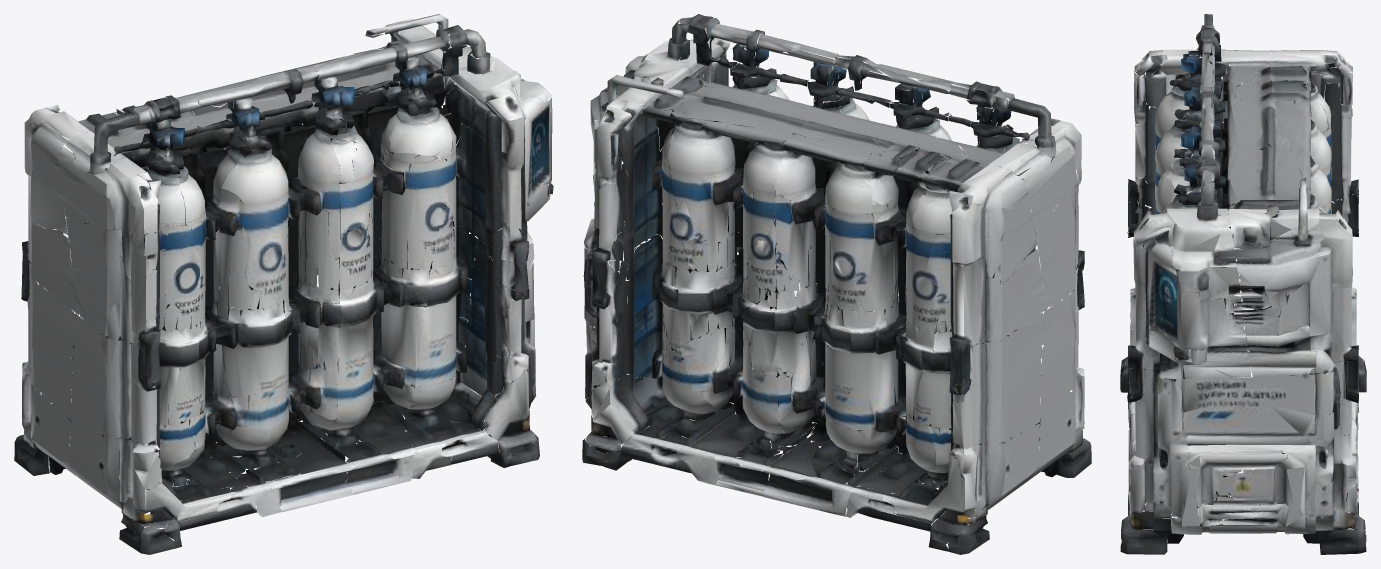
File: OxygenTank.glb
3 renders of one model, left to right at view 1: azimuth 30°, elevation 25°; view 2: azimuth 150°, elevation 25°; view 3: azimuth 270°, elevation 25°, orthographic. The views are drawn at different scales.
Visible parts, largest first — view 1: tripo_node_12c34be9-9d9e-4378-b12c-7050d08061b5; view 2: tripo_node_12c34be9-9d9e-4378-b12c-7050d08061b5; view 3: tripo_node_12c34be9-9d9e-4378-b12c-7050d08061b5.
Boxes of the visible parts, bbox=[...] form: tripo_node_12c34be9-9d9e-4378-b12c-7050d08061b5: bbox=[14, 14, 553, 554]; tripo_node_12c34be9-9d9e-4378-b12c-7050d08061b5: bbox=[582, 14, 1091, 554]; tripo_node_12c34be9-9d9e-4378-b12c-7050d08061b5: bbox=[1120, 14, 1366, 554].
Size of the model in its own units: 0.9915 by 0.8523 by 0.512.
Materials: 1 (1 with a texture image).
